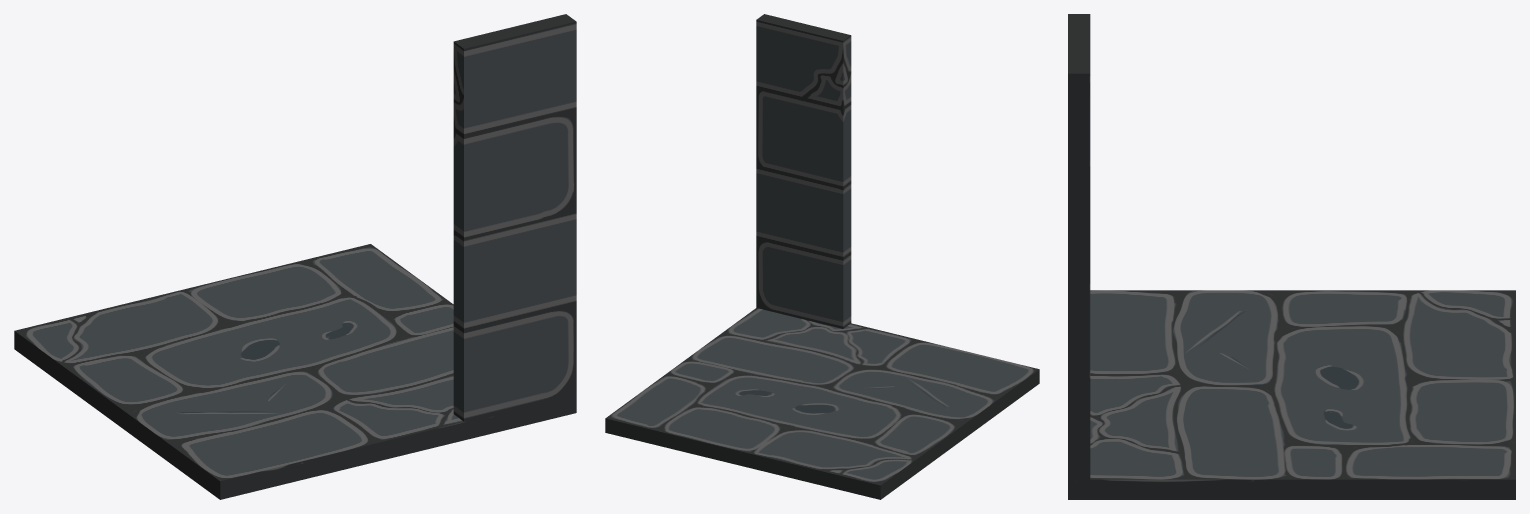
Rendered from Opening-MCURVE-SE_v1.2.fbx.
3 views of the same model, side by side, from view 1: azimuth 30°, elevation 25°; view 2: azimuth 150°, elevation 25°; view 3: azimuth 270°, elevation 25° (orthographic). The views are drawn at different scales.
Visible parts, largest first — view 1: Opening-MCURV-SE; view 2: Opening-MCURV-SE; view 3: Opening-MCURV-SE.
Part boxes in pixels (<box>): Opening-MCURV-SE: <box>14,14,576,499</box>; Opening-MCURV-SE: <box>605,14,1039,499</box>; Opening-MCURV-SE: <box>1068,14,1515,499</box>.
Size of the model in its own units: 100 by 100 by 105.
